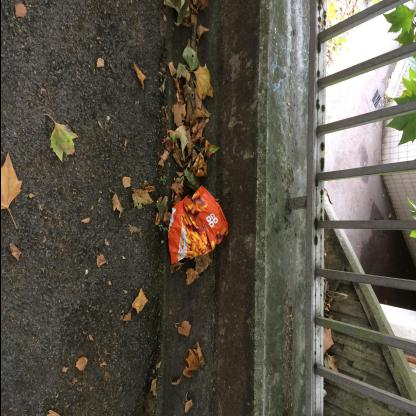plastik: (167, 185, 227, 267)
